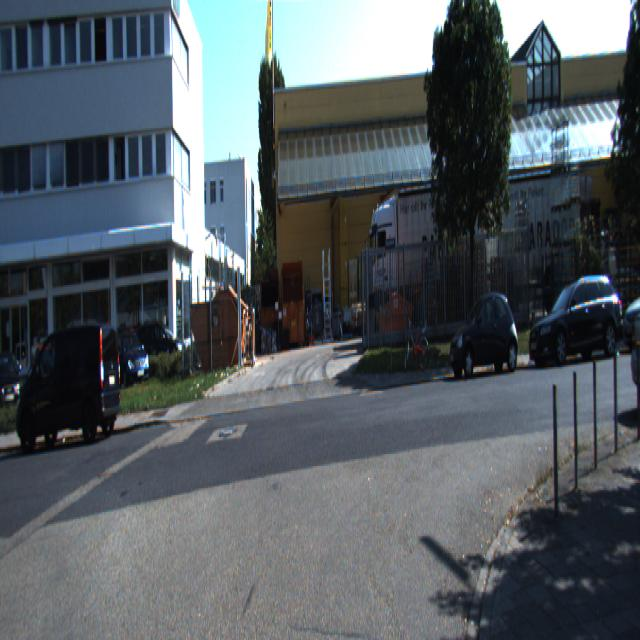Car: (368, 176, 486, 336), (16, 319, 122, 447), (525, 270, 627, 368), (448, 288, 519, 374), (110, 330, 150, 400), (628, 273, 640, 410)
